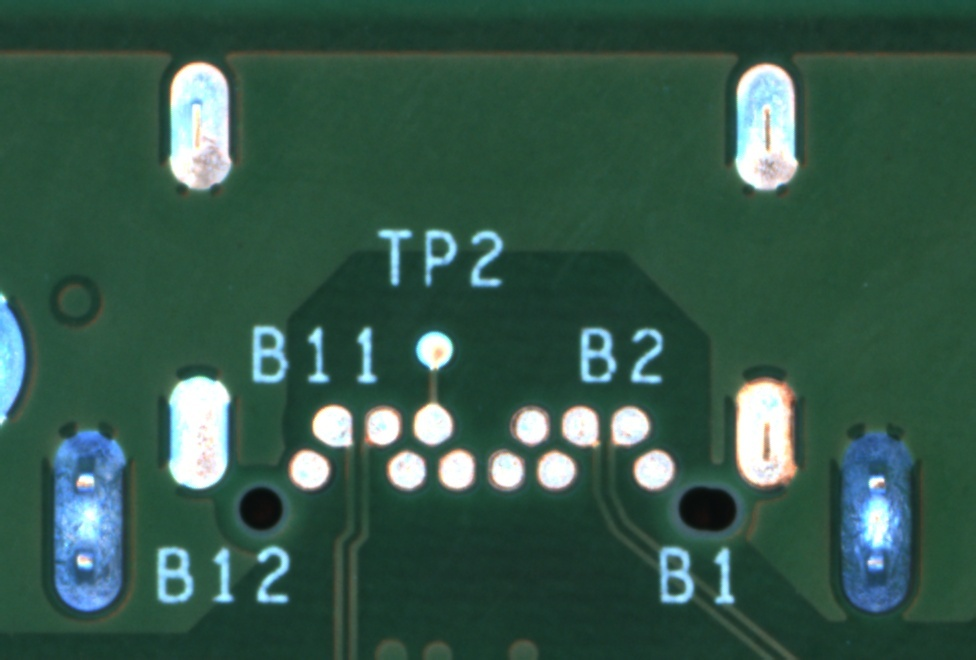SOLDER: (505, 400, 553, 449), (556, 402, 604, 451), (484, 446, 532, 495), (434, 445, 482, 494), (384, 447, 432, 496), (284, 446, 332, 495), (308, 403, 356, 451), (606, 401, 654, 449), (630, 446, 677, 495), (533, 446, 580, 495), (359, 403, 406, 451), (408, 400, 455, 448)
SOLDER2: (37, 421, 141, 624), (823, 415, 927, 618), (722, 52, 809, 206), (153, 49, 240, 203), (725, 354, 812, 507), (155, 351, 241, 504)
